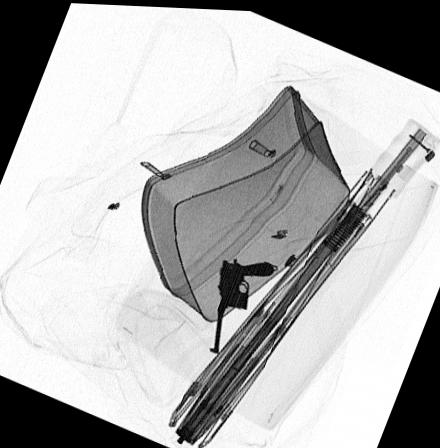Gun: (205, 256, 271, 351)
